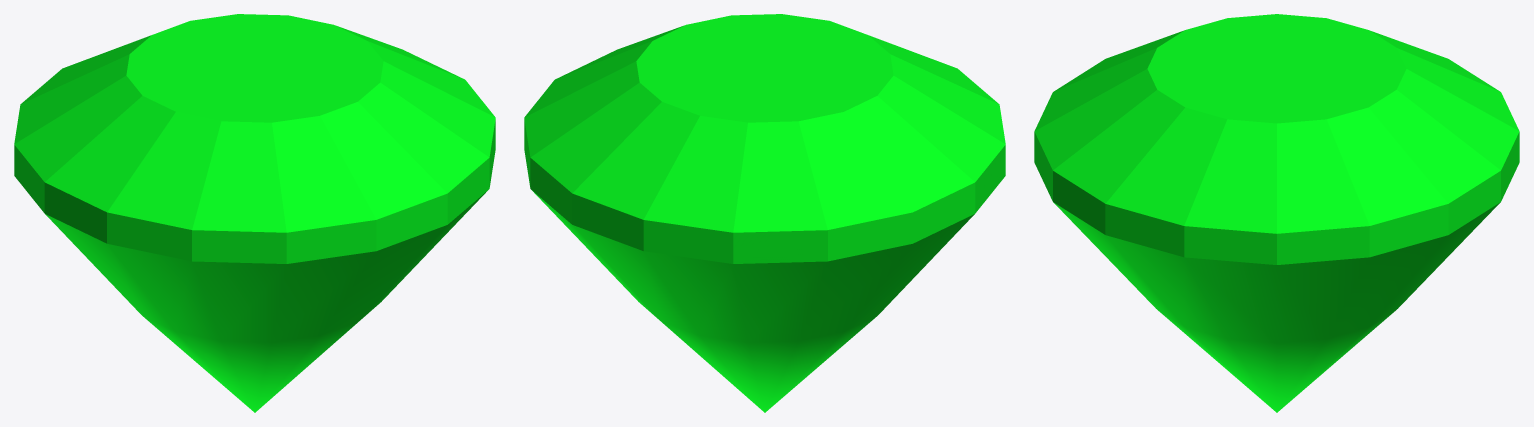
File: Green Gem.FBX
3 renders of one model, left to right at view 1: azimuth 30°, elevation 25°; view 2: azimuth 150°, elevation 25°; view 3: azimuth 270°, elevation 25°, orthographic.
Parts seen in each view (by area): view 1: Green Gem; view 2: Green Gem; view 3: Green Gem.
Boxes of the visible parts, x1,y1,x2,y2 form: Green Gem: (14, 14, 495, 412); Green Gem: (524, 14, 1005, 412); Green Gem: (1034, 14, 1519, 412).
Size of the model in its own units: 0.1 by 0.0783 by 0.1.
